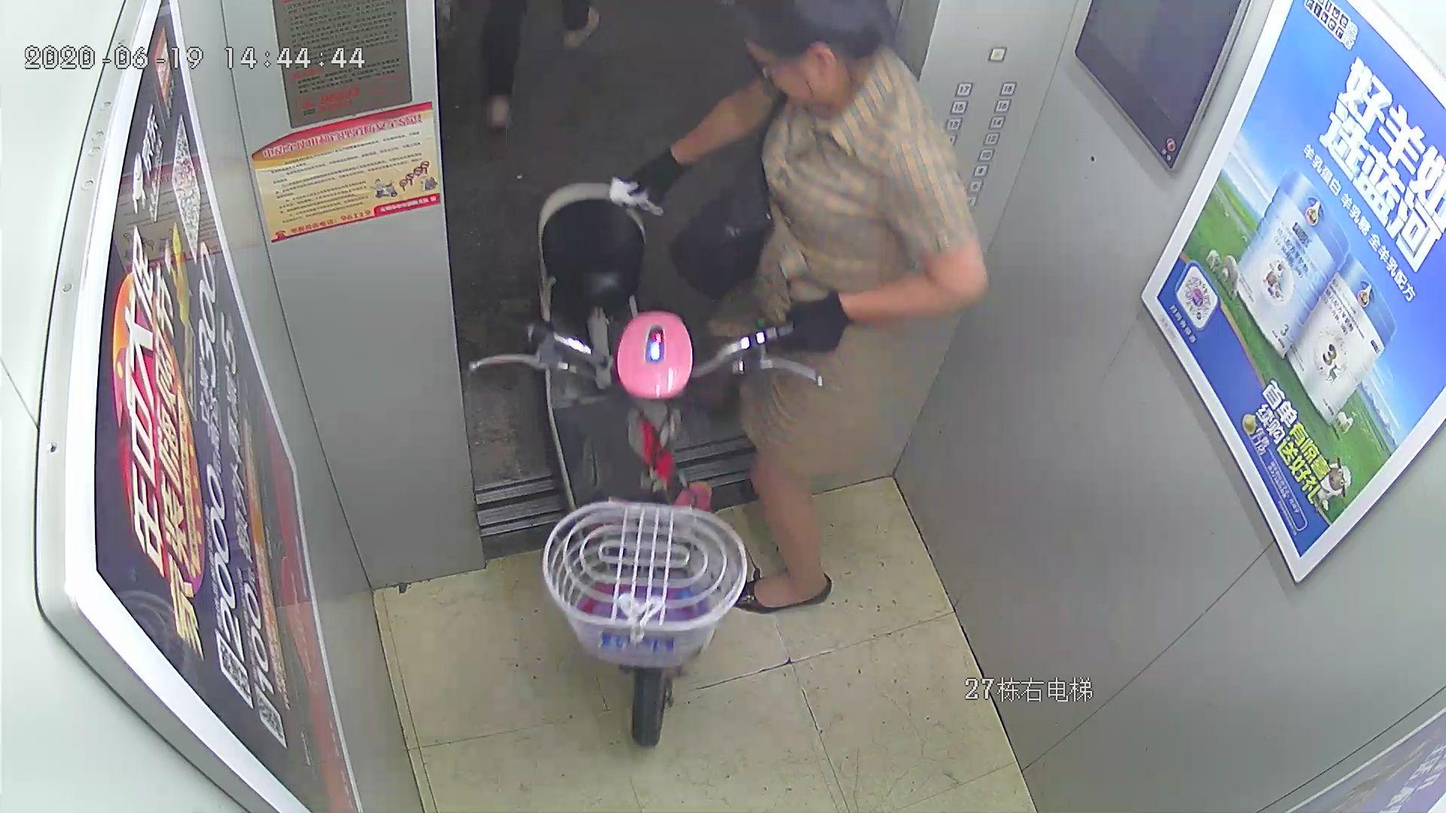Electric-bicycle: (468, 184, 825, 765)
